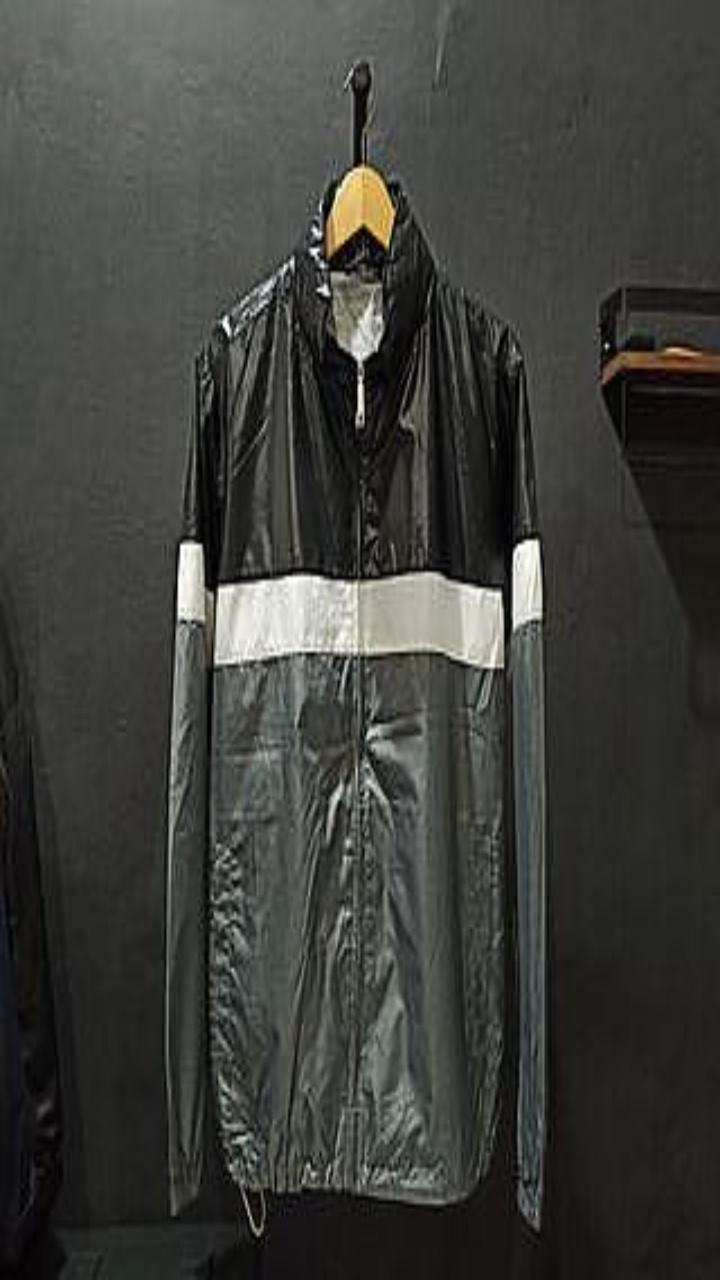Sports_Jacket: (165, 177, 546, 1232), (0, 627, 61, 1266)
